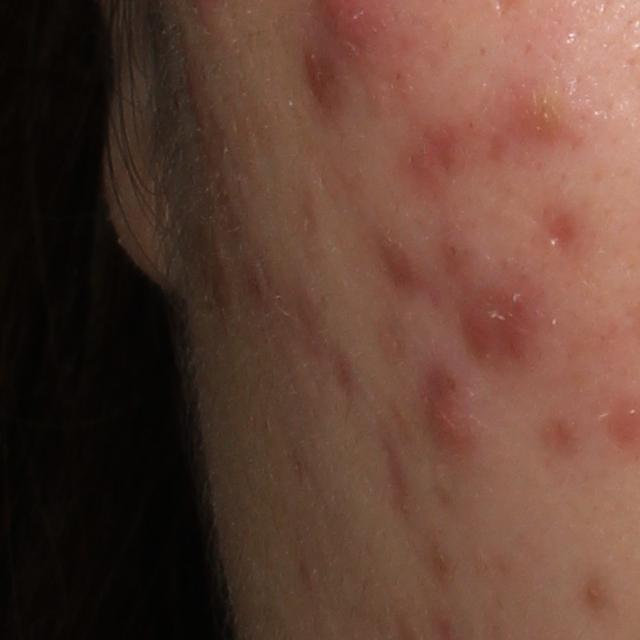papule: (425, 397, 486, 454), (514, 94, 562, 144), (464, 302, 504, 356)
